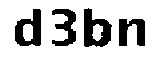3: (49, 7, 80, 53)
b: (81, 4, 113, 52)
d: (10, 7, 44, 52)
n: (116, 14, 147, 51)
